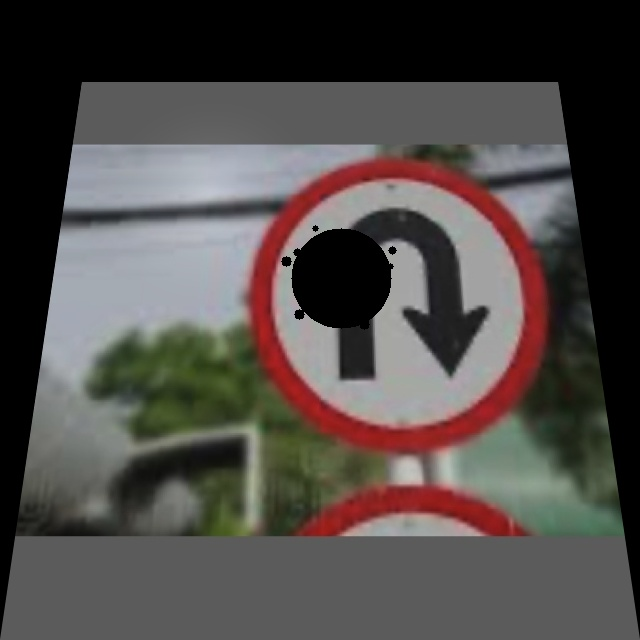U_Turn_Ahead: (248, 167, 561, 434)
